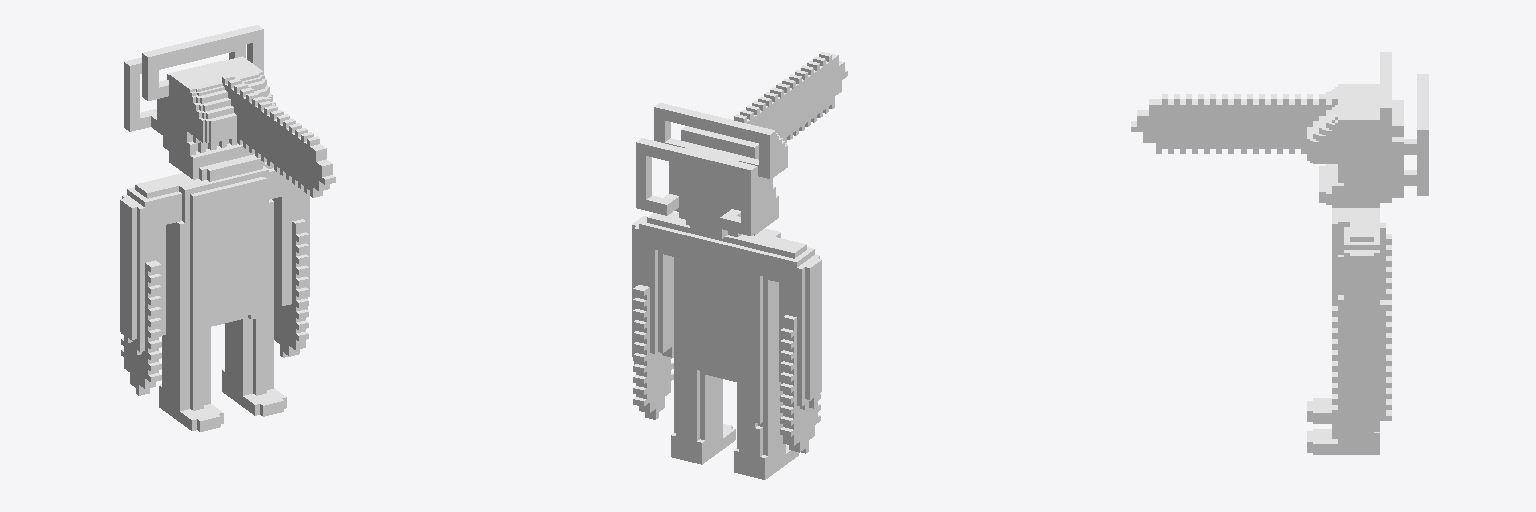
The model's file is denji.obj.
3 views of the same model, side by side, from view 1: azimuth 30°, elevation 25°; view 2: azimuth 150°, elevation 25°; view 3: azimuth 270°, elevation 25° (orthographic).
Parts seen in each view (by area): view 1: denji; view 2: denji; view 3: denji.
Boxes of the visible parts, <box> form: denji: <box>120,25,335,431</box>; denji: <box>632,52,847,479</box>; denji: <box>1131,52,1428,454</box>.
Size of the model in its own units: 6.8 by 12.8 by 9.8.